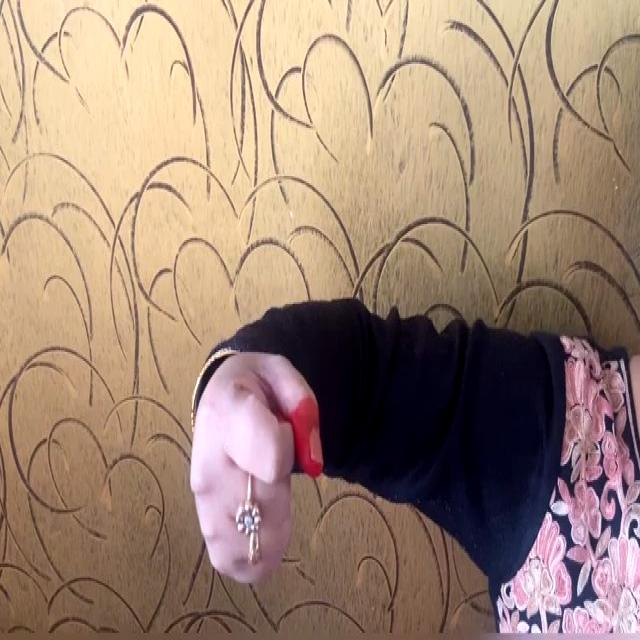Mushti: (164, 272, 346, 617)
